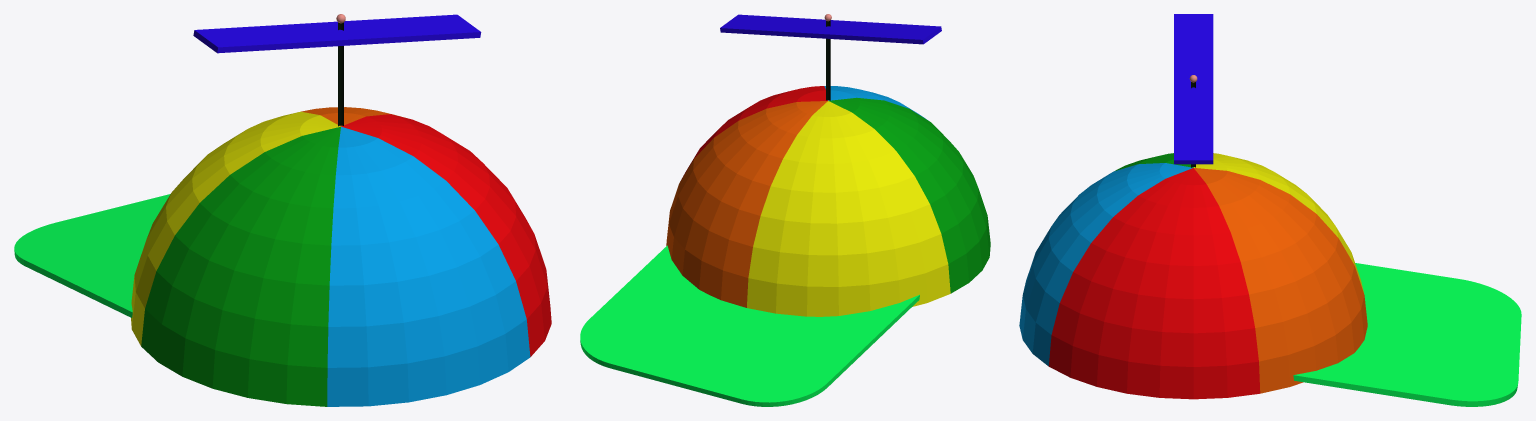
The model's file is Pinwheel hat.gltf.
3 renders of one model, left to right at view 1: azimuth 30°, elevation 25°; view 2: azimuth 150°, elevation 25°; view 3: azimuth 270°, elevation 25°, orthographic. The views are drawn at different scales.
Parts seen in each view (by area): view 1: PInwheel hat; view 2: PInwheel hat; view 3: PInwheel hat.
Part boxes in pixels (x1,y1,x2,y2): PInwheel hat: (14, 14, 551, 406); PInwheel hat: (580, 14, 990, 406); PInwheel hat: (1019, 14, 1521, 406).
Size of the model in its own units: 0.2584 by 0.2346 by 0.3725.
